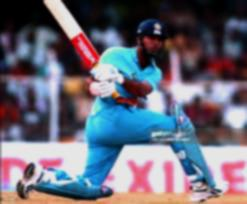batsman: (12, 5, 232, 204)
